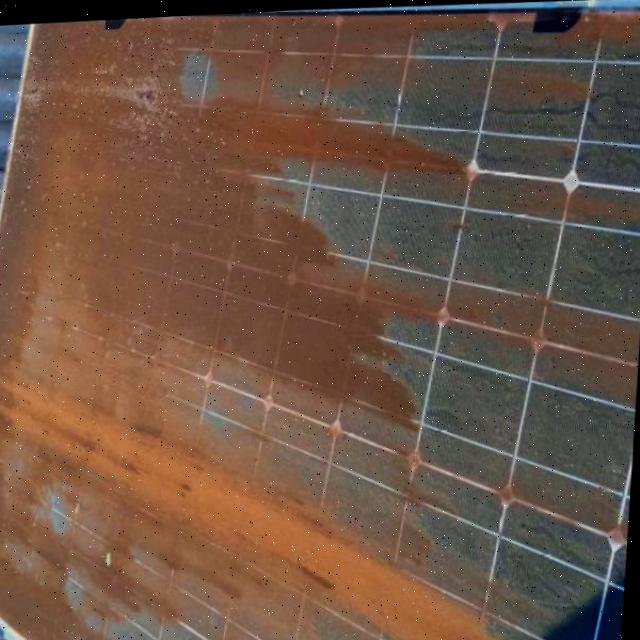Anomaly Solar Panel: (0, 0, 640, 640)
Surface Contaminant: (0, 7, 640, 640)
